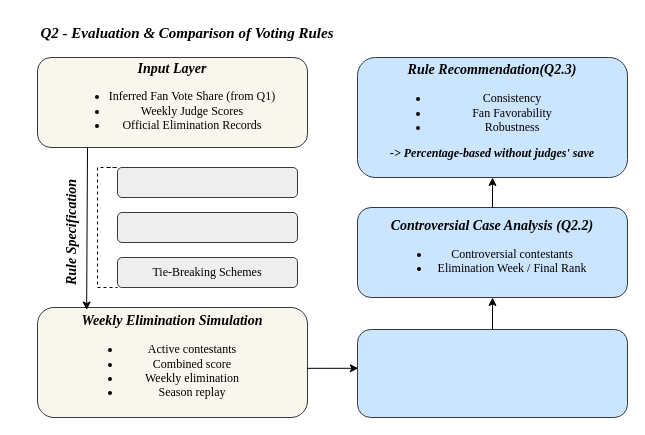
Some shapes in this 645 by 435 pixel diagram are drawn without their labels. Here are the shapes that lost their labels. From the top down, the centre of each, then its label:
At (207,182): "Rank/Percentage-based Combine".
At (207,227): "Judges' Save Mechanism".
At (492,373): "Rule Evaluation (Q2.1) Elimination agreement Fan bias (vote share / percentile)".
